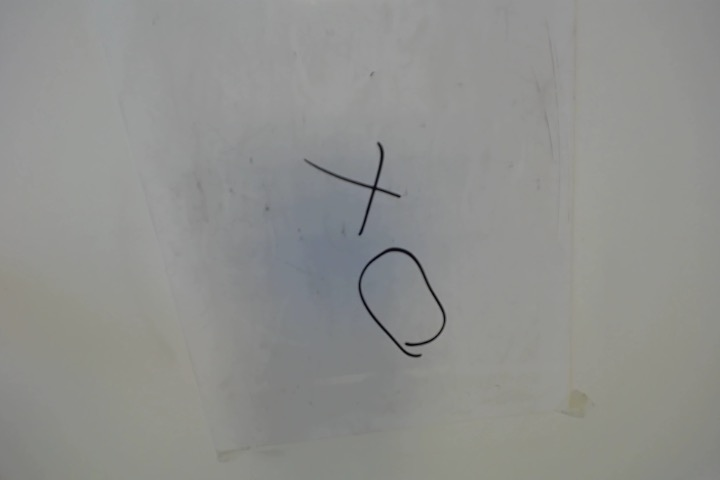0: (352, 244, 453, 361)
x: (305, 146, 410, 232)
